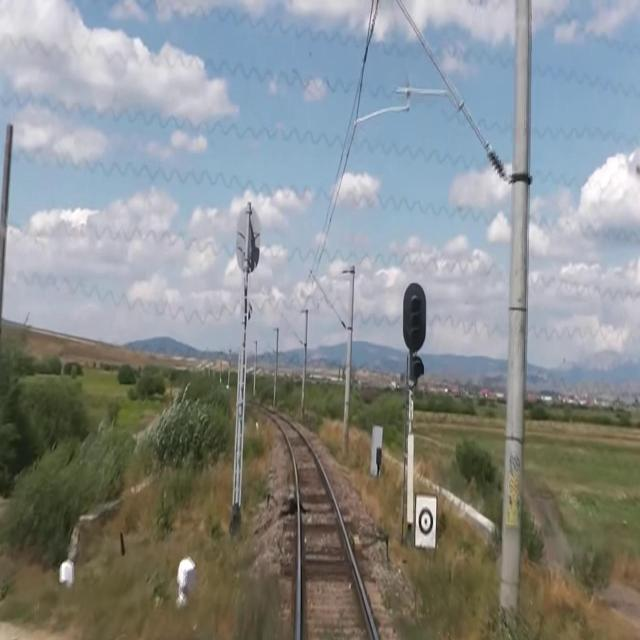rail-track: (280, 420, 373, 639)
